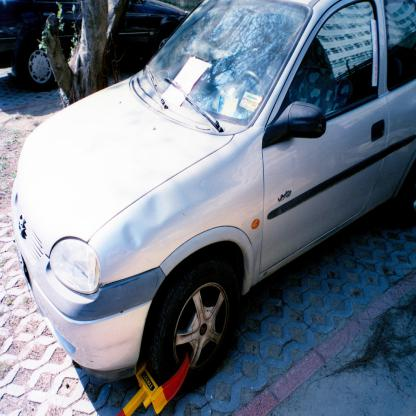Car: (10, 0, 415, 395), (0, 0, 190, 93)
